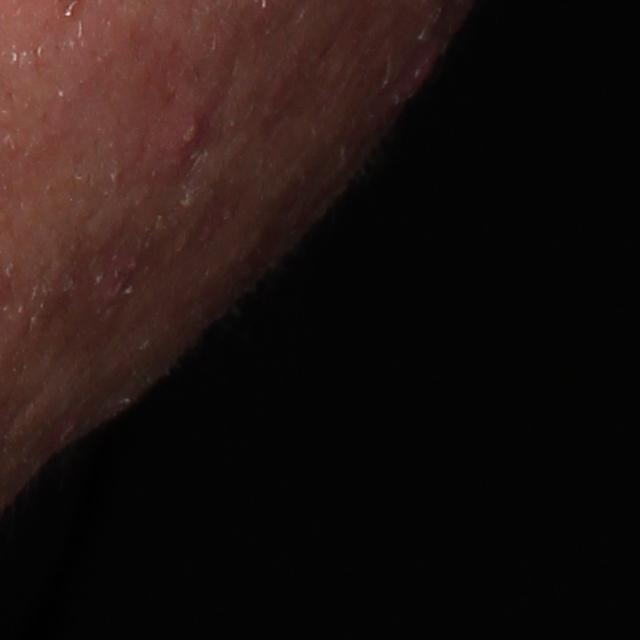pustule: (168, 115, 205, 167)
